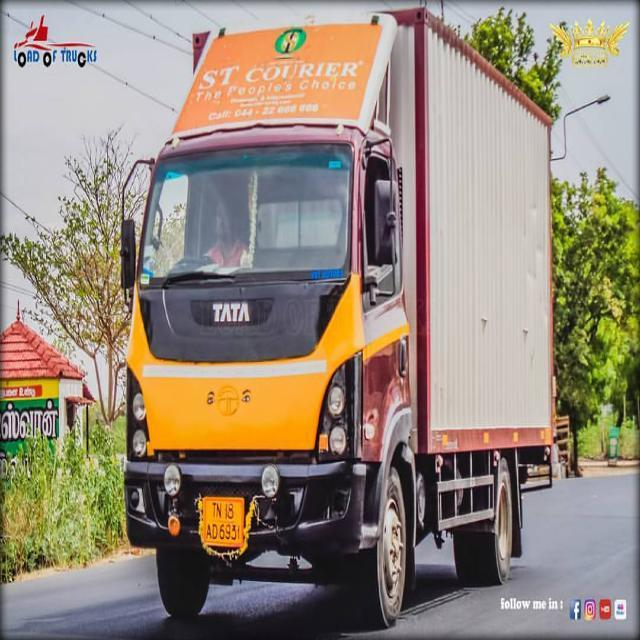Truck: (114, 0, 558, 628)
